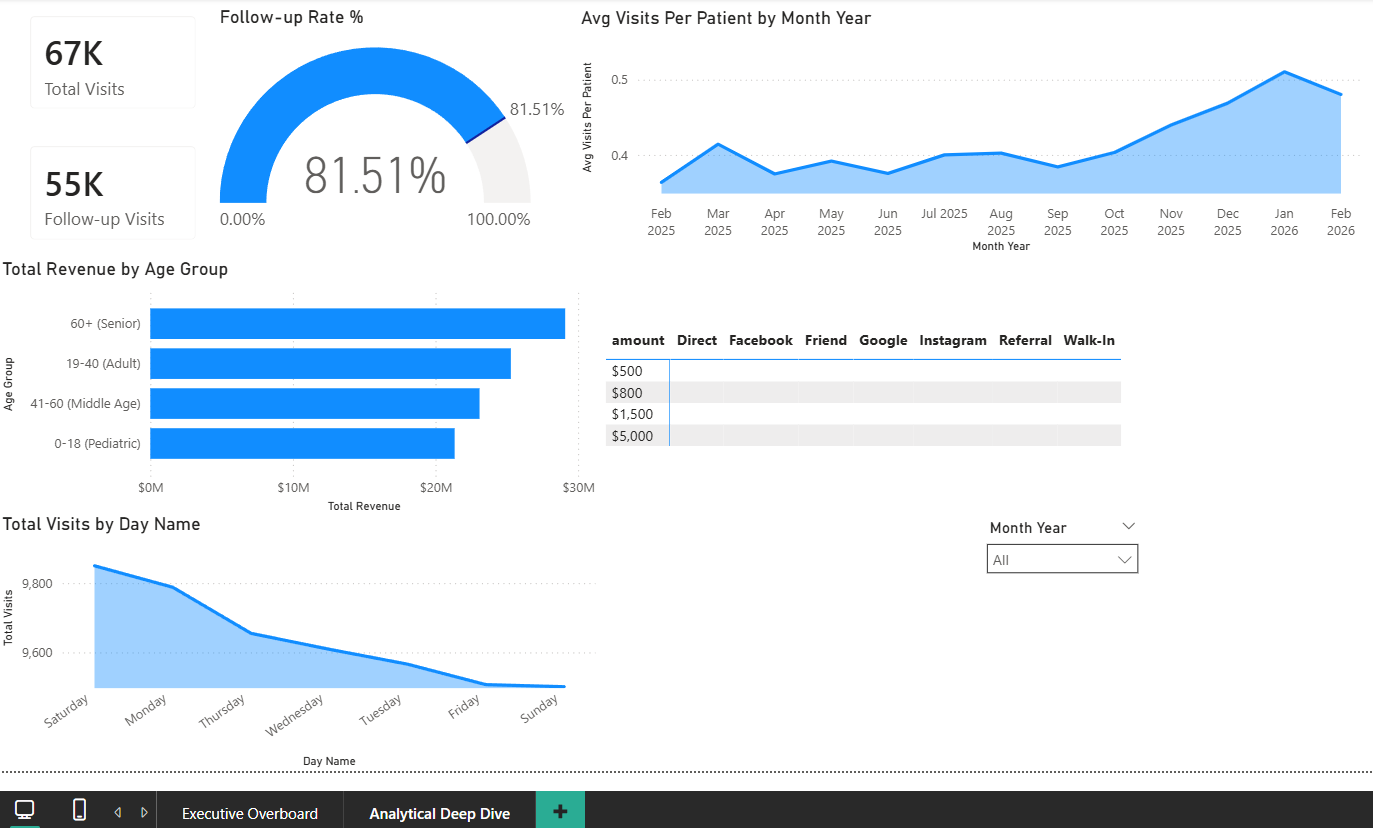

This screenshot's page, from the dashboard's own definition file:
{"tool":"powerbi","page":{"name":"Analytical Deep Dive","canvas":[1280,720],"ordinal":1},"visuals":[{"type":"group","id":"g1","title":"Group 1","box":[14.1,0,1265.9,241.9],"z":0},{"type":"cardVisual","fields":{"Data":["_KPIs.Total Visits"]},"box":[14.1,0,188.2,120.5],"z":0,"group":"g1"},{"type":"cardVisual","fields":{"Data":["_KPIs.Follow-up Visits"]},"box":[14.1,120.5,188.2,121.4],"z":1000,"group":"g1"},{"type":"group","id":"g2","title":"Group 2","box":[0,241.9,1280,241.9],"z":1000},{"type":"barChart","fields":{"Y":["_KPIs.Total Revenue"],"Category":["patients.Age Group"]},"box":[0,241.9,561.7,241.9],"z":1000,"group":"g2"},{"type":"gauge","fields":{"Y":["_KPIs.Follow-up Rate %"]},"box":[202.3,0,336.6,241.9],"z":2000,"group":"g1"},{"type":"pivotTable","fields":{"Columns":["patients.acquisition_source"],"Rows":["visits.amount"]},"box":[561.7,302.1,718.3,121.6],"z":2000,"group":"g2"},{"type":"areaChart","fields":{"Category":["DateTable.Day Name"],"Y":["_KPIs.Total Visits"]},"box":[0,478.7,561.9,241.9],"z":2000},{"type":"areaChart","fields":{"Category":["DateTable.Month Year"],"Y":["_KPIs.Avg Visits Per Patient"]},"box":[538.9,0,741.1,241.9],"z":3000,"group":"g1"},{"type":"slicer","fields":{"Values":["DateTable.Month Year"]},"box":[910.1,478.7,161.3,78.1],"z":12000}]}

Visuals, with their boxes on the page's 1280x720 design canvas (x1, y1, x2, y2). These are canvas units, not pixel positions in the 1373x828 screenshot, which may show the page scaled, cropped or inside an application window:
"Group 1" group: (14,0,1280,242)
cardVisual - _KPIs.Total Visits: (14,0,202,120)
cardVisual - _KPIs.Follow-up Visits: (14,120,202,242)
"Group 2" group: (0,242,1280,484)
barChart - _KPIs.Total Revenue x patients.Age Group: (0,242,562,484)
gauge - _KPIs.Follow-up Rate %: (202,0,539,242)
pivotTable - patients.acquisition_source x visits.amount: (562,302,1280,424)
areaChart - DateTable.Day Name x _KPIs.Total Visits: (0,479,562,721)
areaChart - DateTable.Month Year x _KPIs.Avg Visits Per Patient: (539,0,1280,242)
slicer - DateTable.Month Year: (910,479,1071,557)
